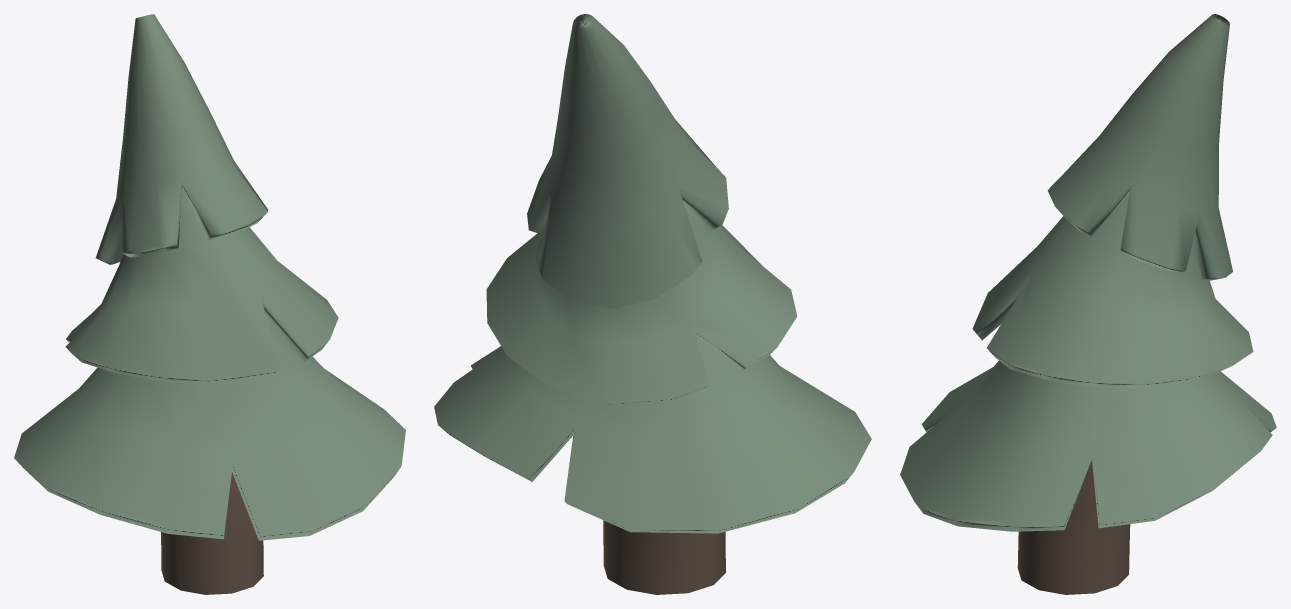
File: arbolito.fbx
3 views of the same model, side by side, from view 1: azimuth 30°, elevation 25°; view 2: azimuth 150°, elevation 25°; view 3: azimuth 270°, elevation 25° (orthographic). The views are drawn at different scales.
Visible parts, largest first — view 1: arbolito, tronco; view 2: arbolito, tronco; view 3: arbolito, tronco.
Part boxes in pixels (x1,y1,x2,y2): arbolito: (14,14,405,540); tronco: (161,472,263,594); arbolito: (434,14,871,533); tronco: (603,520,725,594); arbolito: (900,14,1276,531); tronco: (1017,460,1130,594).
Size of the model in its own units: 399 by 587 by 360.
